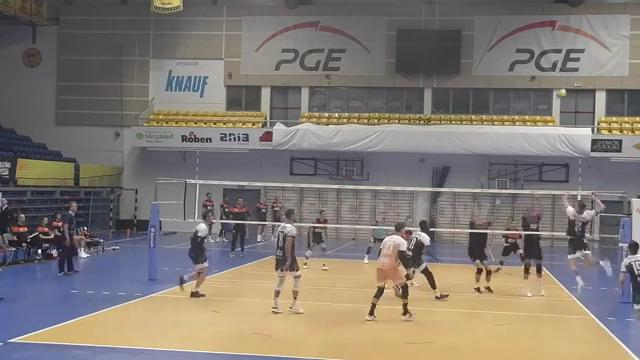attacco: (555, 183, 620, 292)
